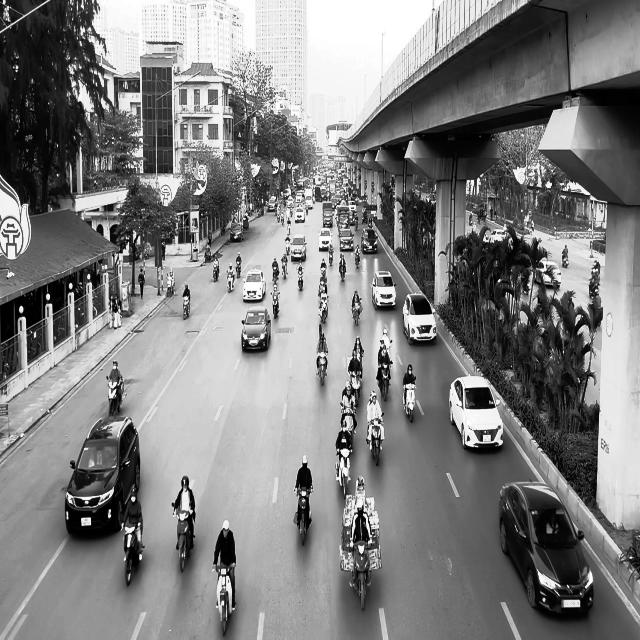car: (498, 480, 594, 616), (64, 415, 140, 534), (448, 375, 504, 450), (402, 293, 437, 345), (241, 308, 271, 352), (371, 270, 397, 310), (242, 269, 266, 302), (534, 260, 561, 288), (290, 234, 307, 261), (361, 228, 378, 254), (318, 228, 332, 250), (230, 222, 243, 241)
motorbike: (349, 539, 373, 610), (213, 563, 236, 635), (172, 503, 195, 573), (120, 522, 144, 586), (294, 486, 312, 545), (366, 412, 385, 466), (336, 446, 352, 499), (106, 375, 124, 416), (402, 379, 417, 422), (378, 361, 392, 402), (316, 350, 328, 385), (318, 294, 328, 322), (352, 298, 362, 325), (589, 272, 599, 298), (271, 291, 279, 319), (182, 295, 190, 320), (212, 260, 220, 282), (339, 255, 346, 280), (297, 266, 304, 290), (227, 273, 234, 292), (354, 250, 360, 267), (236, 259, 241, 277)
